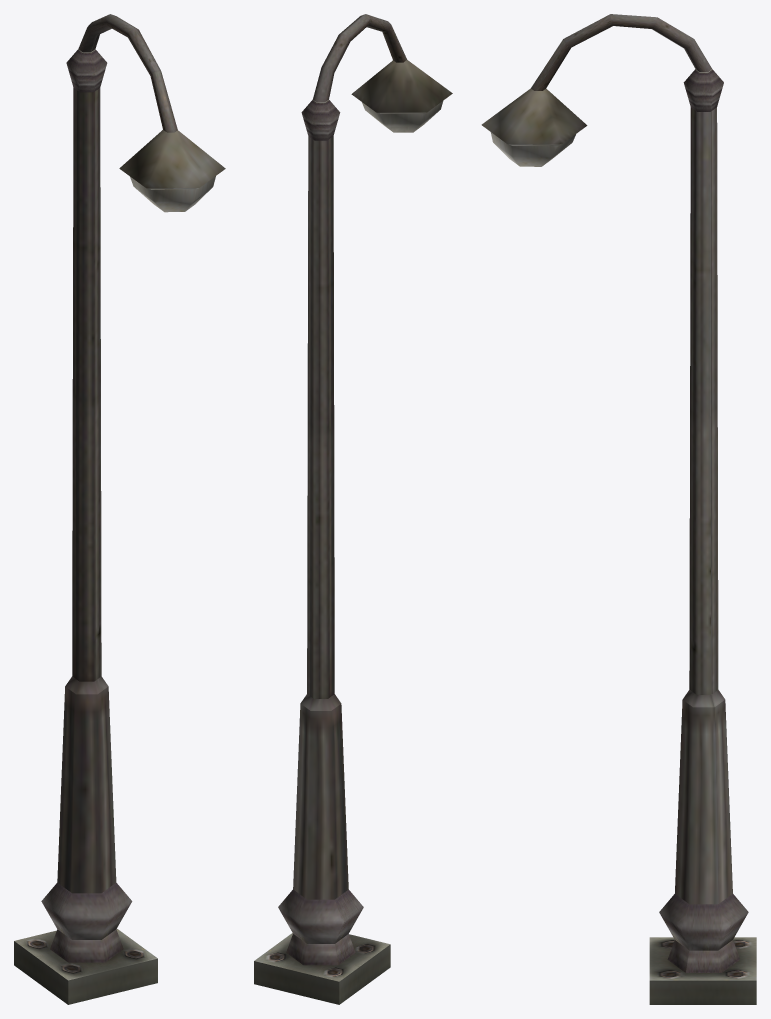
The model's file is steet light.FBX.
3 views of the same model, side by side, from view 1: azimuth 30°, elevation 25°; view 2: azimuth 150°, elevation 25°; view 3: azimuth 270°, elevation 25° (orthographic). The views are drawn at different scales.
Parts seen in each view (by area): view 1: Box001; view 2: Box001; view 3: Box001.
Boxes of the visible parts, bbox=[...] form: Box001: bbox=[14, 14, 225, 1004]; Box001: bbox=[254, 14, 452, 1004]; Box001: bbox=[481, 14, 756, 1004].
Bounding box in the file's own units: 11.76 × 122 × 31.53.
1 material, 1 textured.
